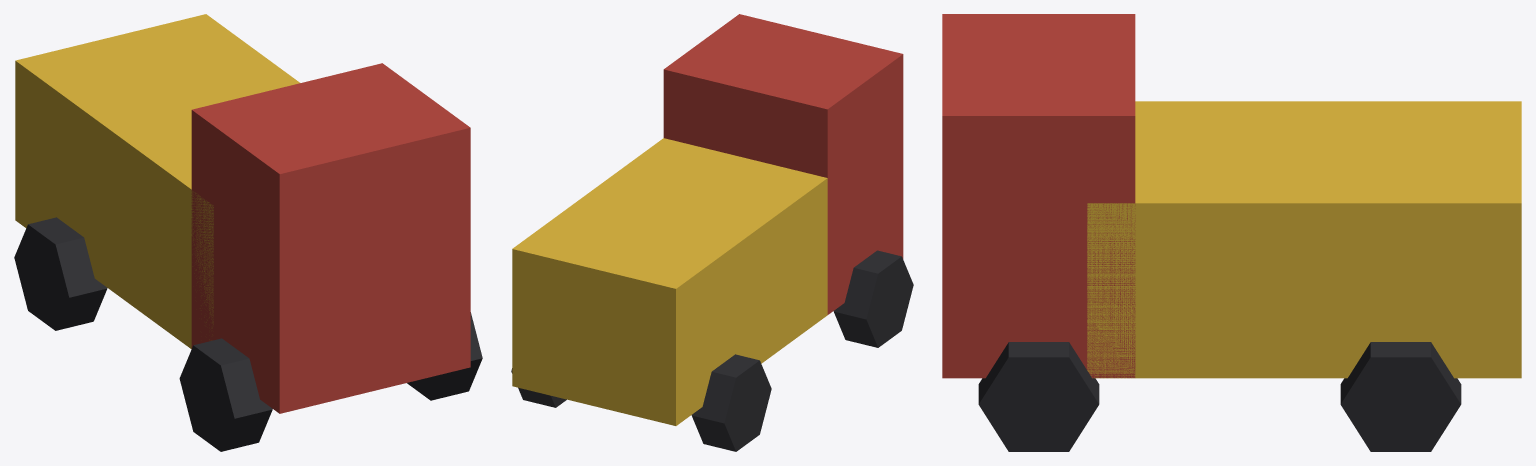
File: GD_ToyTruck_01.glb
3 views of the same model, side by side, from view 1: azimuth 30°, elevation 25°; view 2: azimuth 150°, elevation 25°; view 3: azimuth 270°, elevation 25° (orthographic). The views are drawn at different scales.
Parts seen in each view (by area): view 1: GD_ToyTruck_01; view 2: GD_ToyTruck_01; view 3: GD_ToyTruck_01.
Boxes of the visible parts, box(x1,y1,x2,y2) form: GD_ToyTruck_01: box(14, 14, 482, 451); GD_ToyTruck_01: box(511, 14, 913, 451); GD_ToyTruck_01: box(942, 14, 1521, 451).
Bounding box in the file's own units: 0.13 × 0.1467 × 0.24.
Materials: 1 (1 with a texture image).
